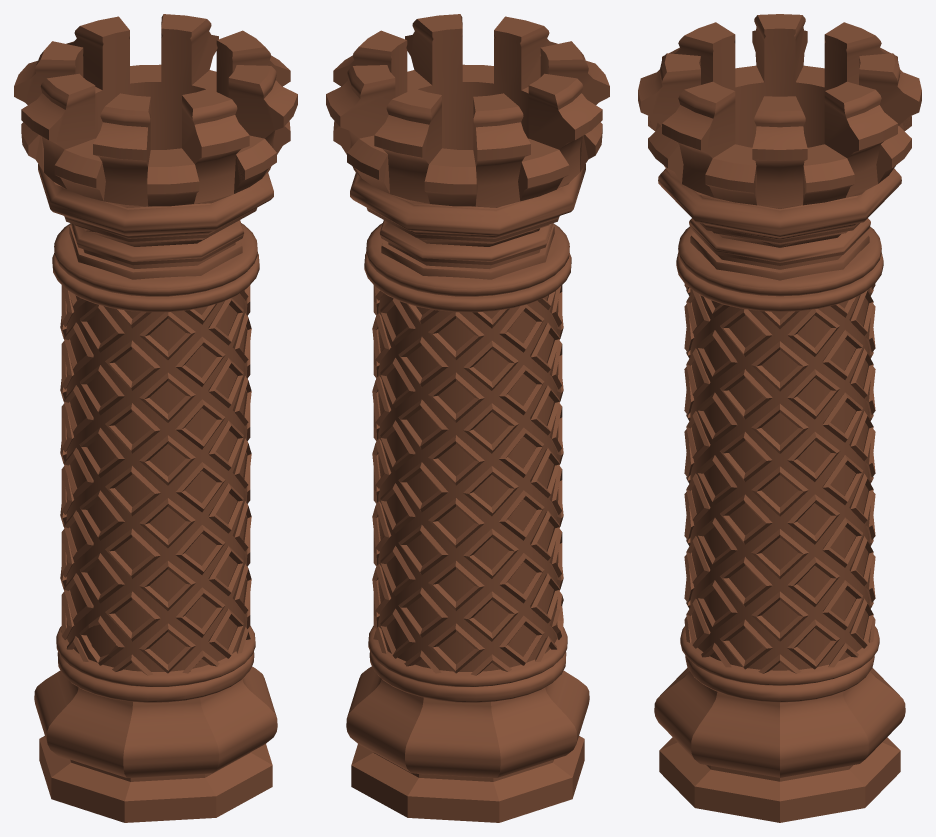
File: chimney.fbx
3 renders of one model, left to right at view 1: azimuth 30°, elevation 25°; view 2: azimuth 150°, elevation 25°; view 3: azimuth 270°, elevation 25°, orthographic.
Parts seen in each view (by area): view 1: Crenellated Chimney Pot; view 2: Crenellated Chimney Pot; view 3: Crenellated Chimney Pot.
Part boxes in pixels (bbox=[...]): Crenellated Chimney Pot: bbox=[14, 14, 297, 822]; Crenellated Chimney Pot: bbox=[326, 14, 609, 822]; Crenellated Chimney Pot: bbox=[638, 14, 921, 822].
Bounding box in the file's own units: 40.02 × 110 × 40.02.
